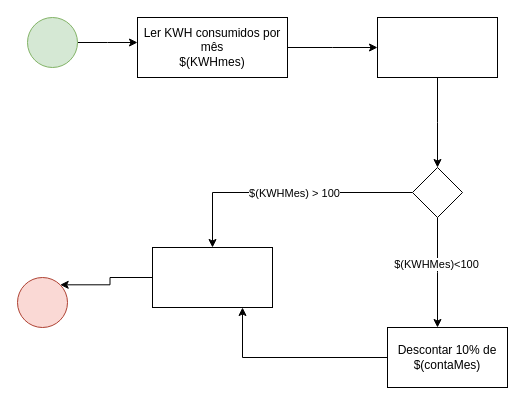
The diagram is 525 pixels wide and 405 high, and some of its shapes have lost their labels. Each missing label, with the centre of its shape:
"Calcular o valor da conta mensal $(contaMes) = KWHMes * 0.85" goes at (x=437, y=47).
"Exiba um alert com o valor da conta a ser paga." goes at (x=212, y=277).
